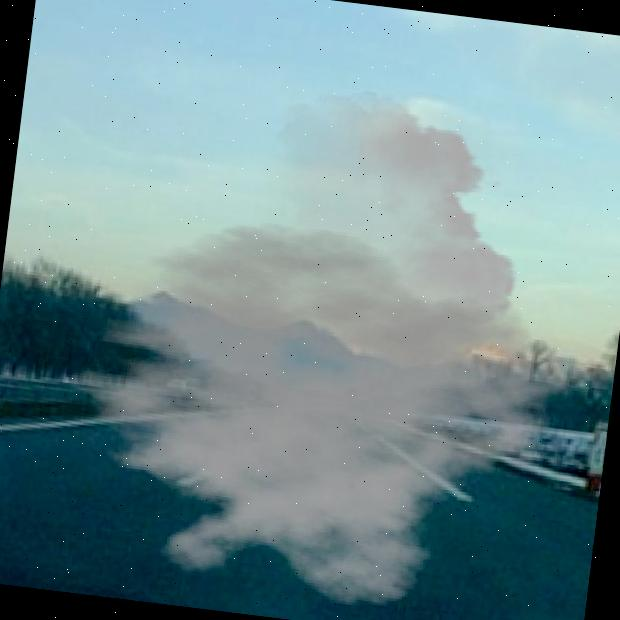smoke: (13, 56, 604, 620)
